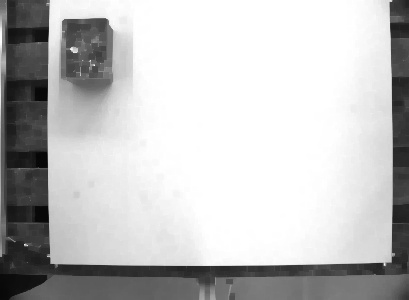klts: (58, 14, 116, 88)
